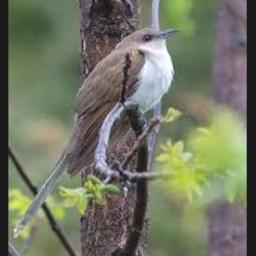Cuckoo: (13, 27, 181, 238)
